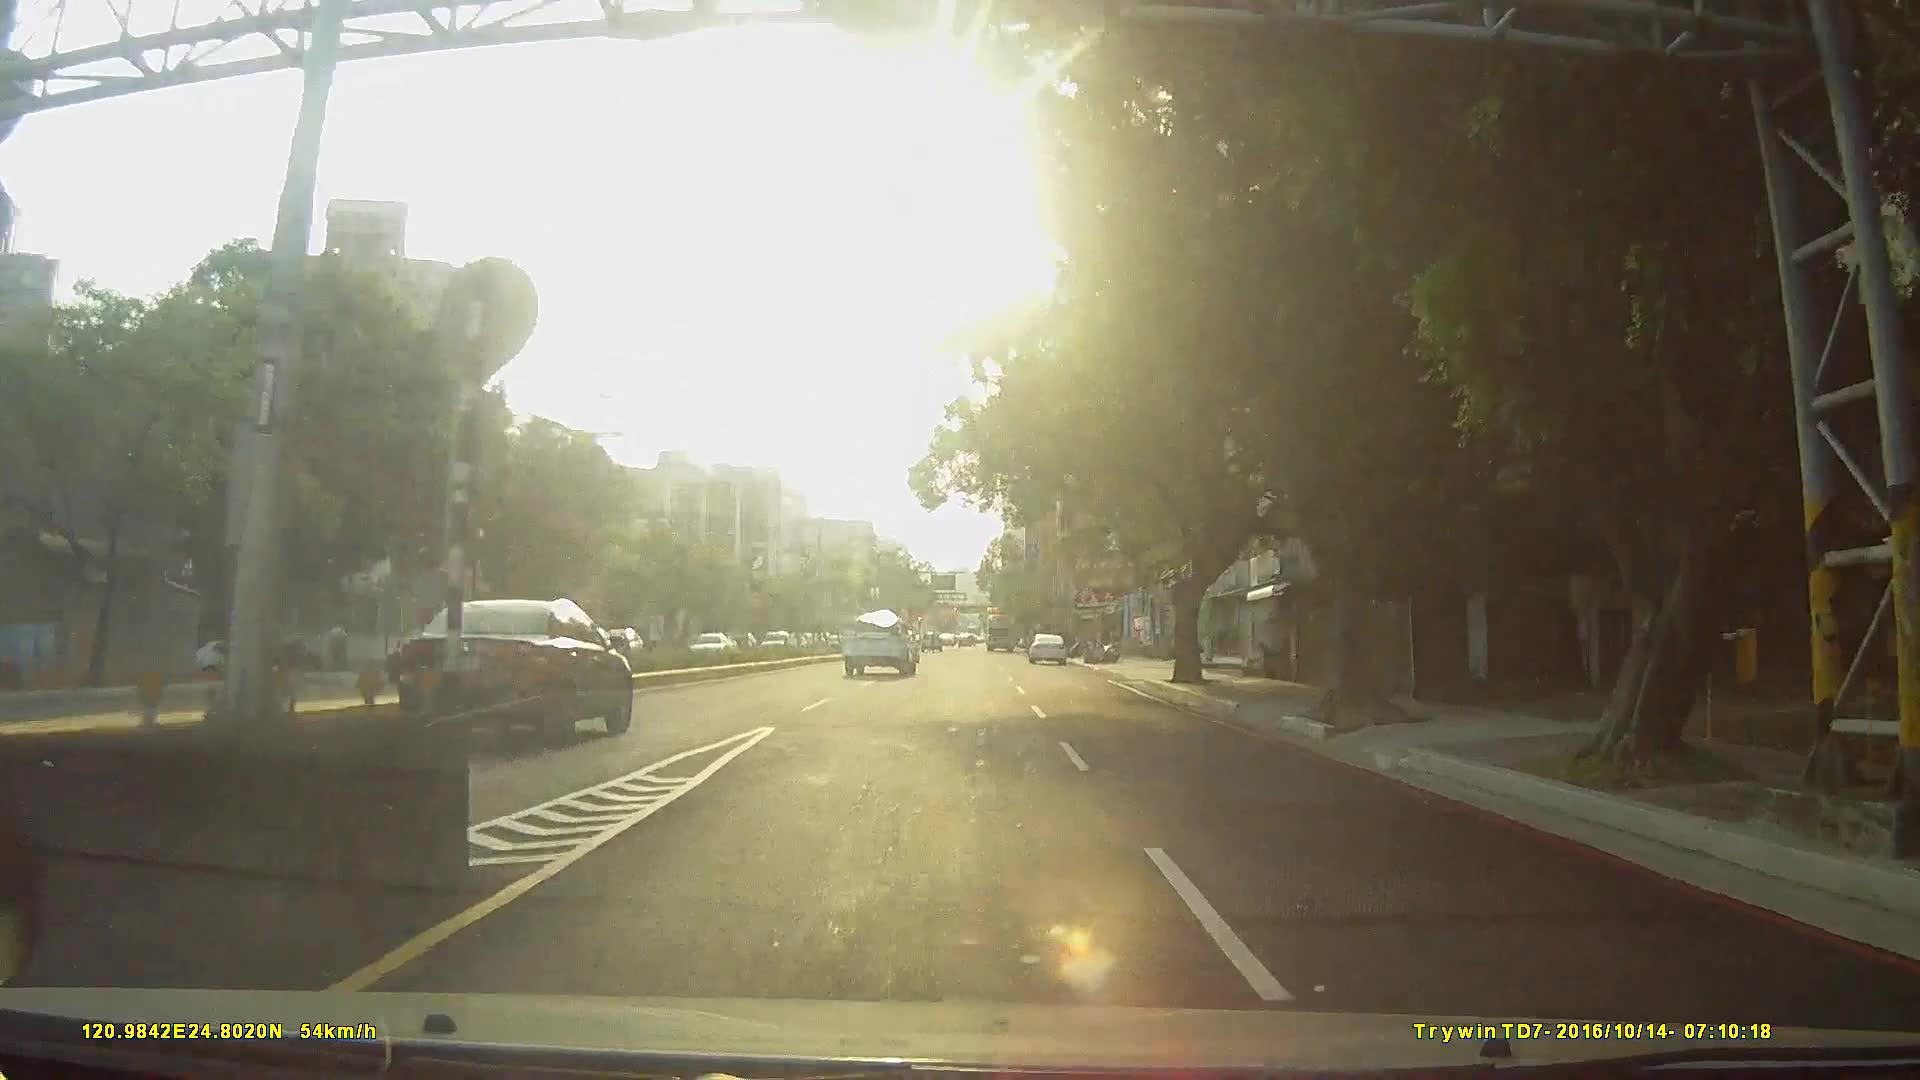pedestrian: (327, 623, 353, 677)
vehicle: (399, 593, 636, 739), (840, 607, 918, 674), (1026, 630, 1068, 666), (982, 610, 1017, 652)
